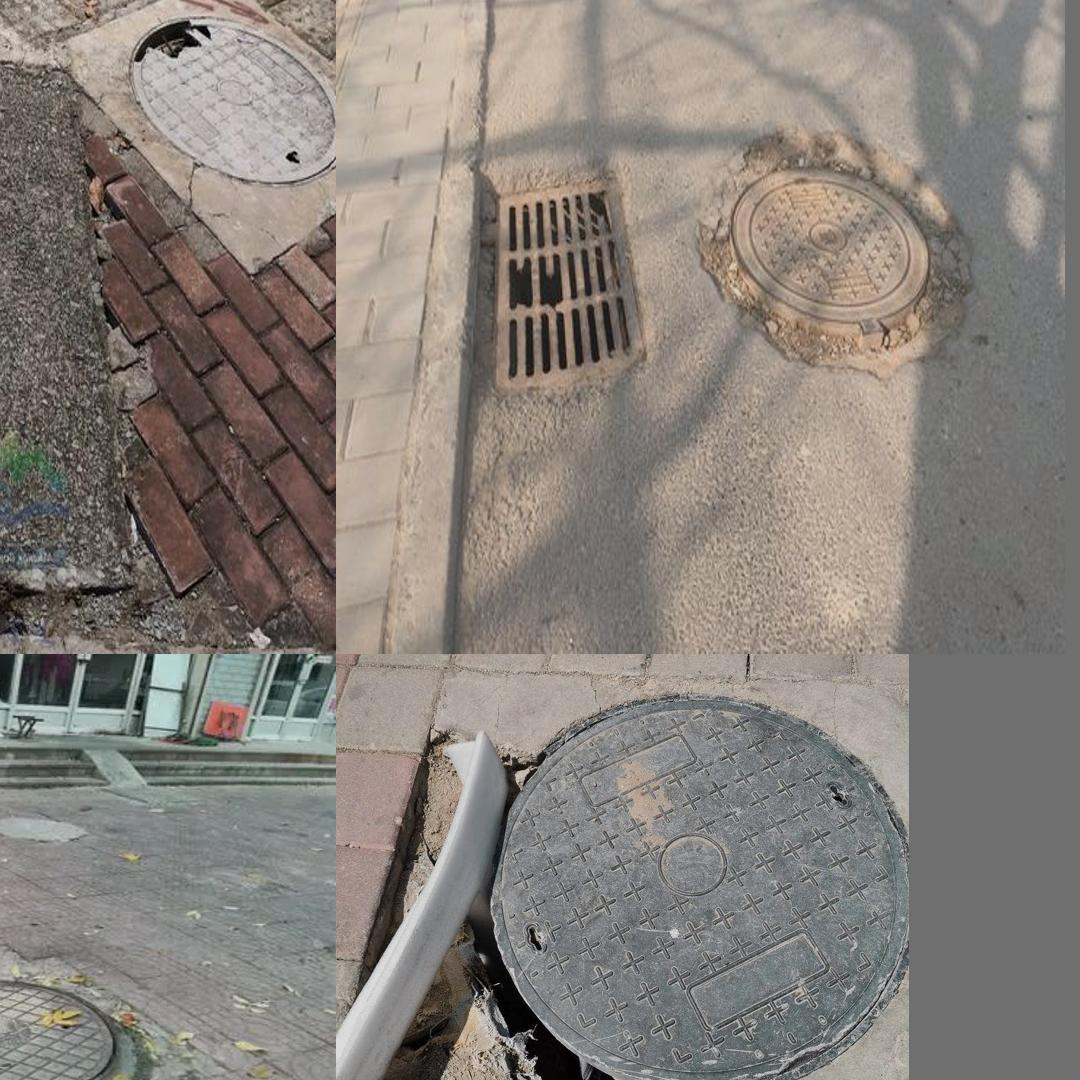circle: (380, 697, 899, 1080), (0, 27, 144, 593), (688, 108, 973, 388), (0, 944, 198, 1080)
